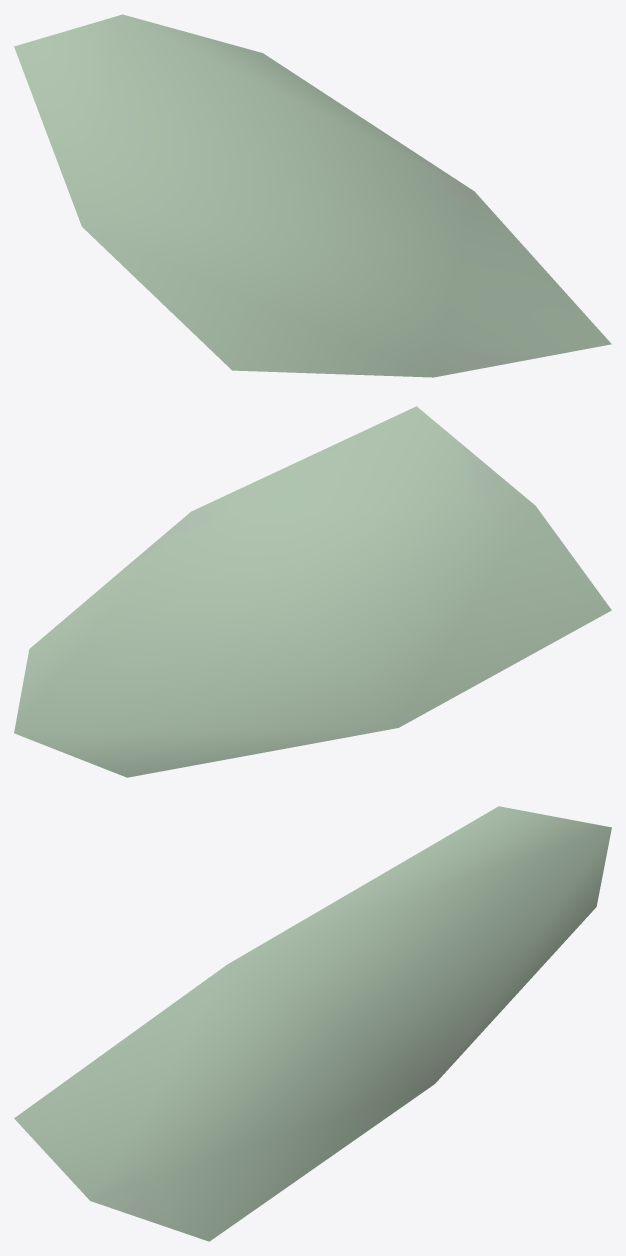
The model's file is TROLLHOLE02_HOLECAP49.fbx.
3 renders of one model, top to bottom at view 1: azimuth 30°, elevation 25°; view 2: azimuth 150°, elevation 25°; view 3: azimuth 330°, elevation 25°, orthographic. The views are drawn at different scales.
Visible parts, largest first — view 1: TROLLHOLE02_HOLECAP49; view 2: TROLLHOLE02_HOLECAP49; view 3: TROLLHOLE02_HOLECAP49.
Boxes of the visible parts, left/top/right/bottom form: TROLLHOLE02_HOLECAP49: left=14, top=14, right=611, bottom=377; TROLLHOLE02_HOLECAP49: left=14, top=406, right=611, bottom=777; TROLLHOLE02_HOLECAP49: left=14, top=806, right=611, bottom=1241.
Size of the model in its own units: 18503 by 4382 by 44651.
1 material, 1 textured.
